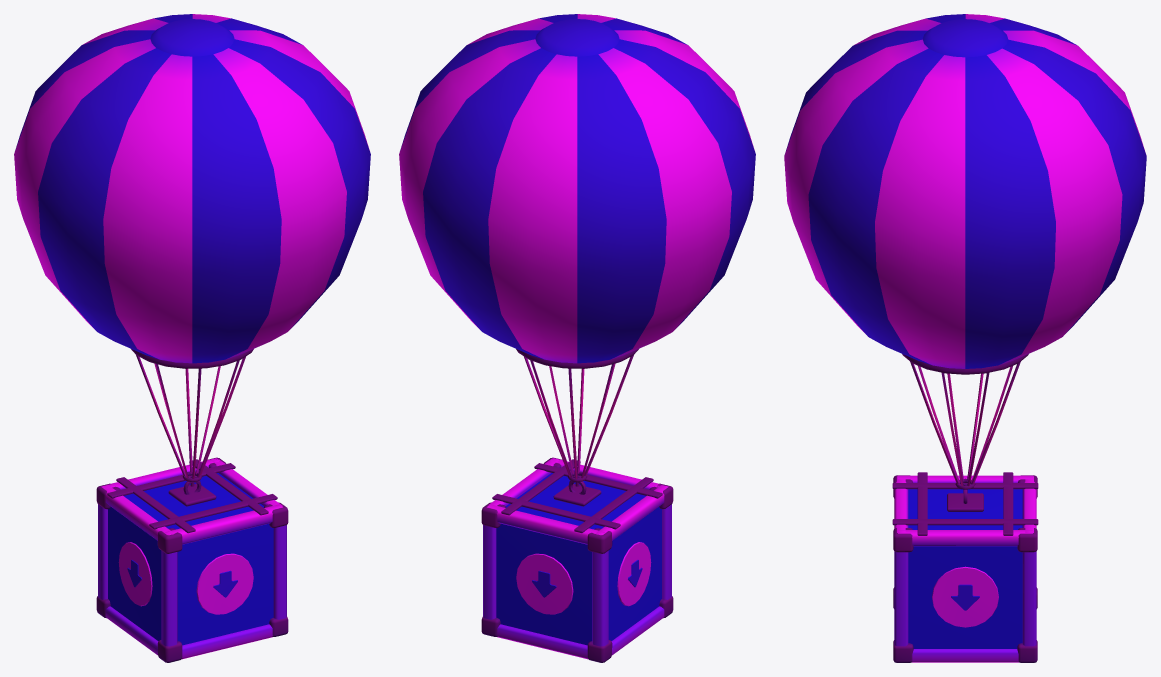
The model's file is items.glb.
3 views of the same model, side by side, from view 1: azimuth 30°, elevation 25°; view 2: azimuth 150°, elevation 25°; view 3: azimuth 270°, elevation 25° (orthographic).
Visible parts, largest first — view 1: SupplyBalloon, SupplyCrate; view 2: SupplyBalloon, SupplyCrate; view 3: SupplyBalloon, SupplyCrate.
Part boxes in pixels (x1=…): SupplyBalloon: x1=14, y1=14, x2=370, y2=486; SupplyCrate: x1=96, y1=457, x2=288, y2=662; SupplyBalloon: x1=399, y1=14, x2=755, y2=486; SupplyCrate: x1=481, y1=457, x2=673, y2=662; SupplyBalloon: x1=784, y1=14, x2=1146, y2=493; SupplyCrate: x1=892, y1=472, x2=1038, y2=662.
Bounding box in the file's own units: 3.56 × 6.53 × 3.56.
